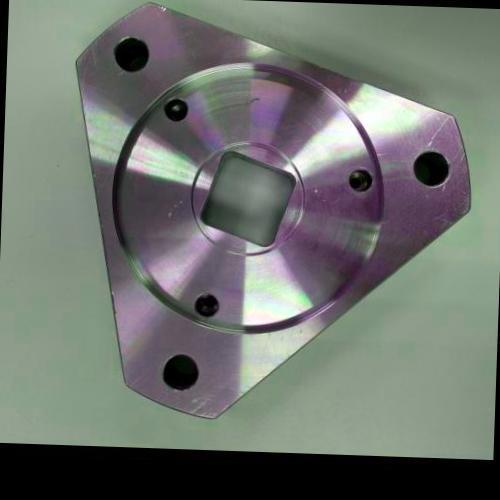hole: (160, 350, 201, 393), (412, 147, 452, 190), (112, 32, 152, 74), (193, 291, 222, 319), (347, 165, 375, 194), (162, 95, 190, 123)
